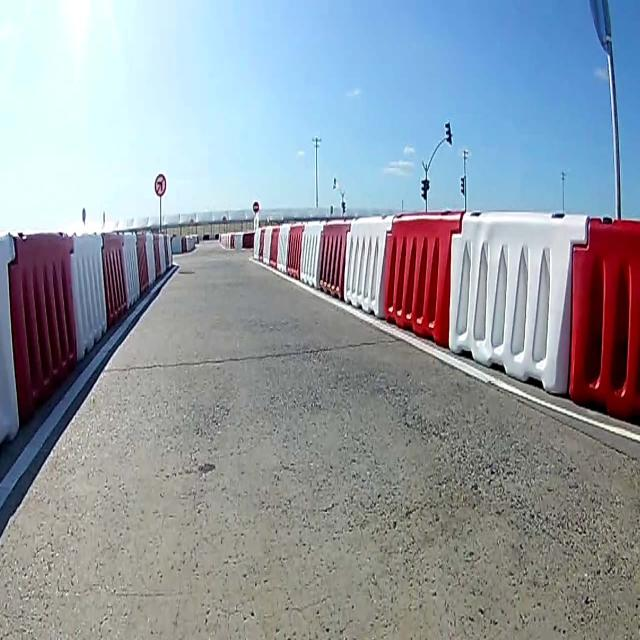girisyok: (253, 202, 259, 213)
soladonulmez: (154, 175, 166, 197)
